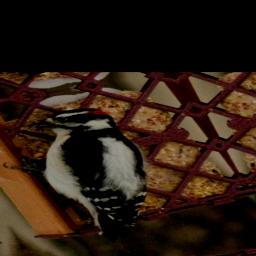Woodpecker: (0, 104, 190, 251)
